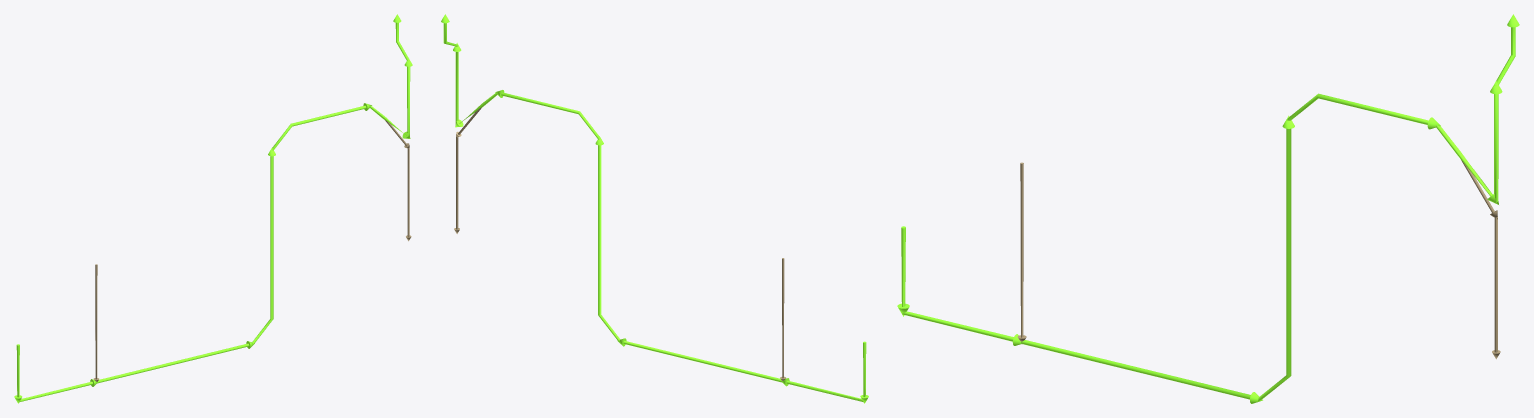
Rendered from pneumatic_conveying_system_flow.glb.
3 renders of one model, left to right at view 1: azimuth 30°, elevation 25°; view 2: azimuth 150°, elevation 25°; view 3: azimuth 330°, elevation 25°, orthographic. The views are drawn at different scales.
Parts seen in each view (by area): view 1: air, solids; view 2: air, solids; view 3: air, solids.
Boxes of the visible parts, bbox=[...] form: air: bbox=[14, 14, 412, 403]; solids: bbox=[93, 120, 411, 381]; air: bbox=[441, 14, 868, 403]; solids: bbox=[454, 108, 785, 380]; air: bbox=[897, 14, 1519, 403]; solids: bbox=[1018, 160, 1500, 359].
Bounding box in the file's own units: 4.07 × 2.81 × 0.2728.
